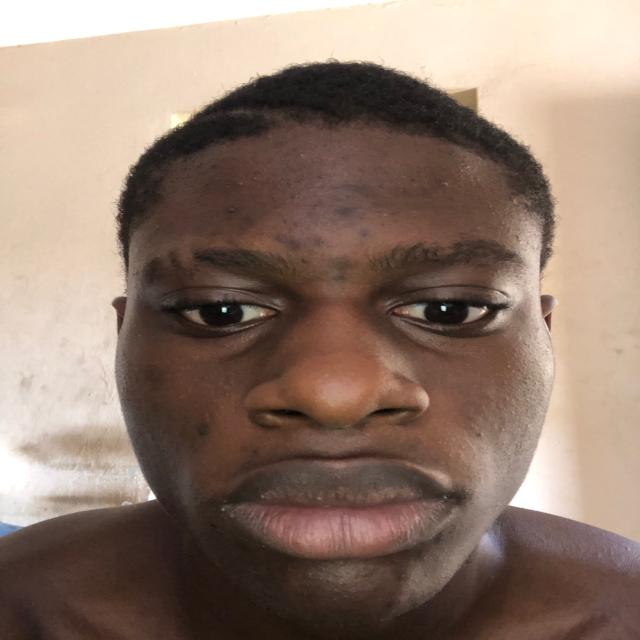Acne: (338, 183, 398, 209), (268, 230, 308, 253), (398, 180, 449, 197), (320, 253, 360, 273), (140, 362, 170, 384), (193, 421, 216, 438), (391, 569, 415, 584), (308, 233, 333, 247), (232, 174, 256, 188), (224, 203, 244, 218), (356, 224, 372, 242), (330, 271, 351, 283), (331, 202, 351, 214), (204, 518, 224, 530), (380, 597, 397, 610), (288, 192, 305, 202), (470, 432, 483, 445), (292, 148, 305, 160), (512, 232, 524, 244)
